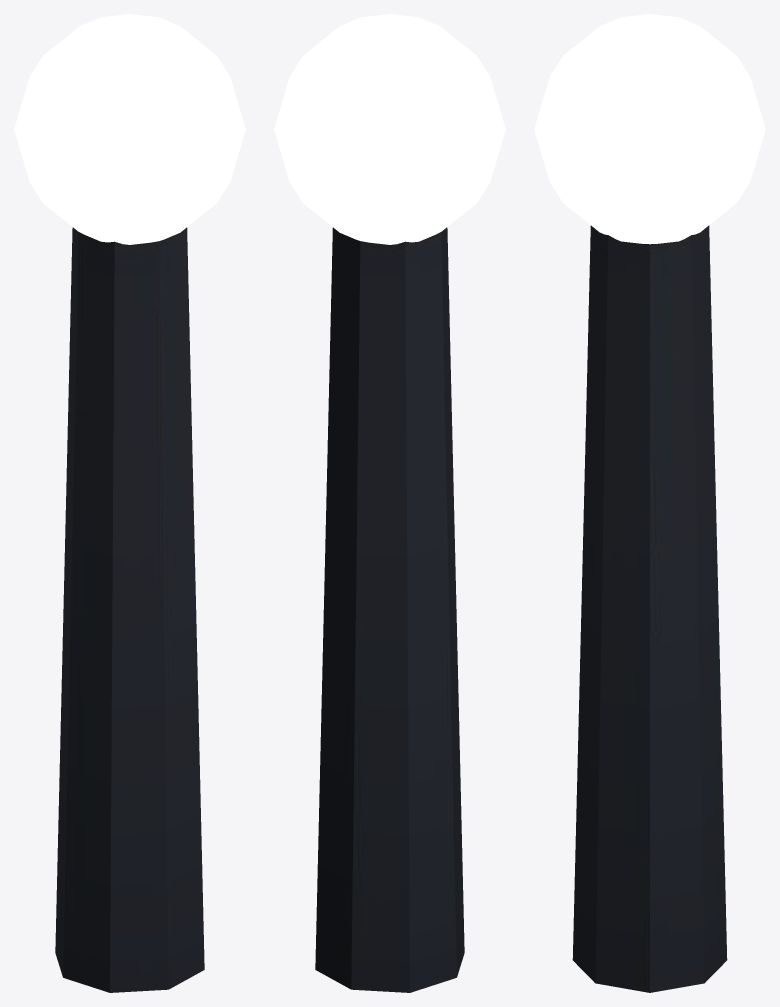
File: bollard.glb
3 views of the same model, side by side, from view 1: azimuth 30°, elevation 25°; view 2: azimuth 150°, elevation 25°; view 3: azimuth 270°, elevation 25° (orthographic).
Parts seen in each view (by area): view 1: Bollard; view 2: Bollard; view 3: Bollard.
Part boxes in pixels (x1,y1,x2,y2): Bollard: (14, 14, 245, 992); Bollard: (274, 14, 505, 992); Bollard: (534, 14, 765, 992).
Bounding box in the file's own units: 0.2399 × 1.07 × 0.2399.
Materials: 2 (2 with a texture image).
